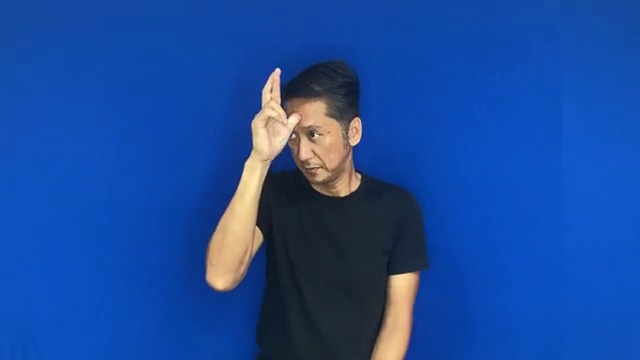chicken: (241, 61, 305, 170)
